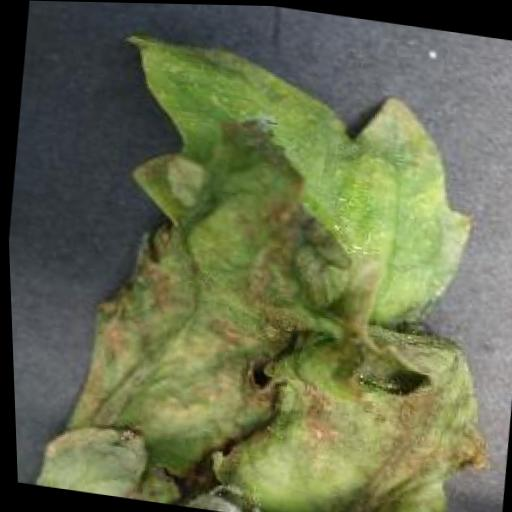Late Blight: (21, 20, 512, 512)
